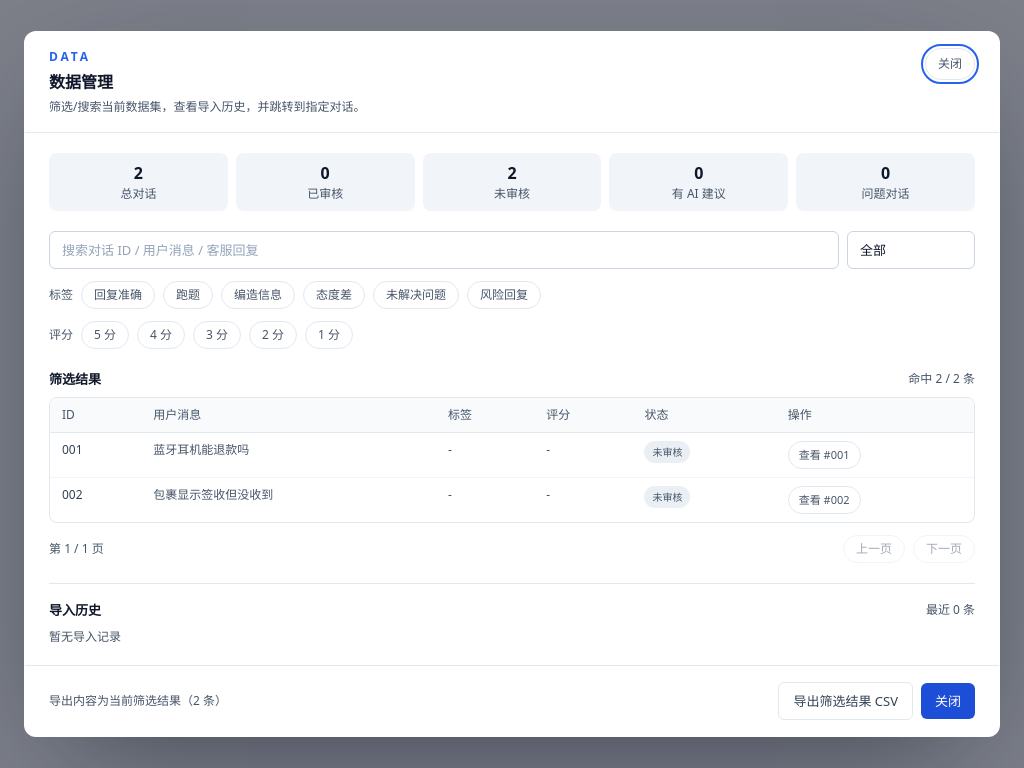
Test case: BUG-32 导出筛选结果的面板内即时反馈 › 导出成功 → 面板底部显示「已导出筛选结果 N 条」
Click the button "导出筛选结果 CSV" at coordinates (846, 701), box [778,682,913,720]
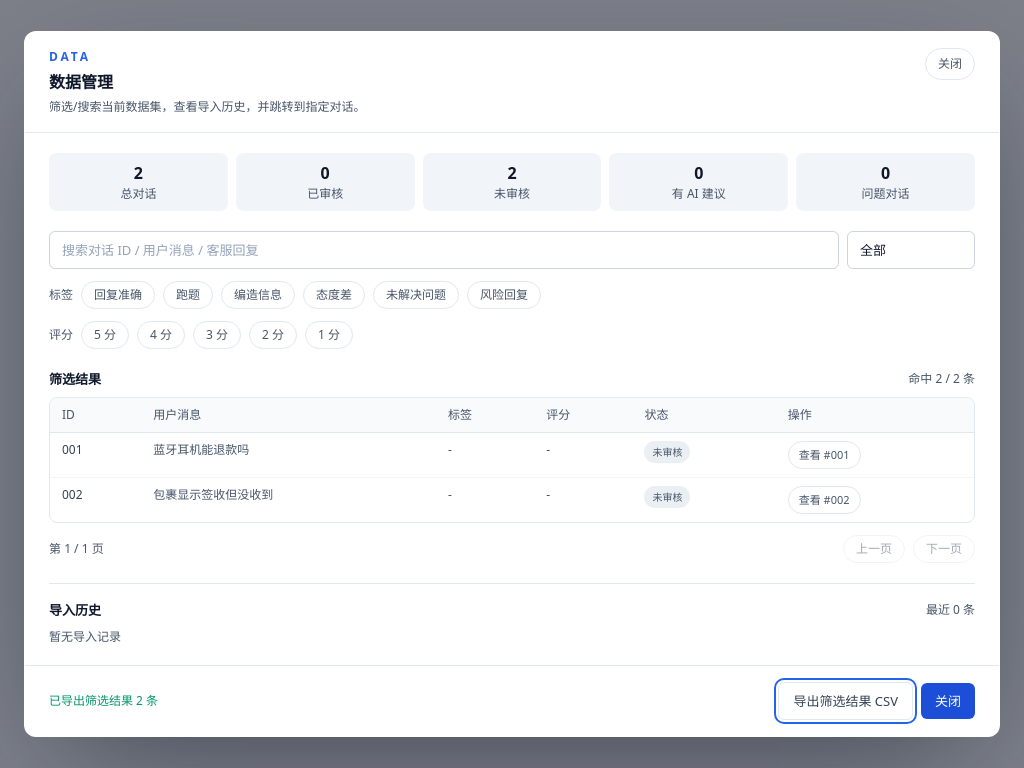
Now the text "已导出筛选结果 2 条" is shown, box [49,692,158,710]
